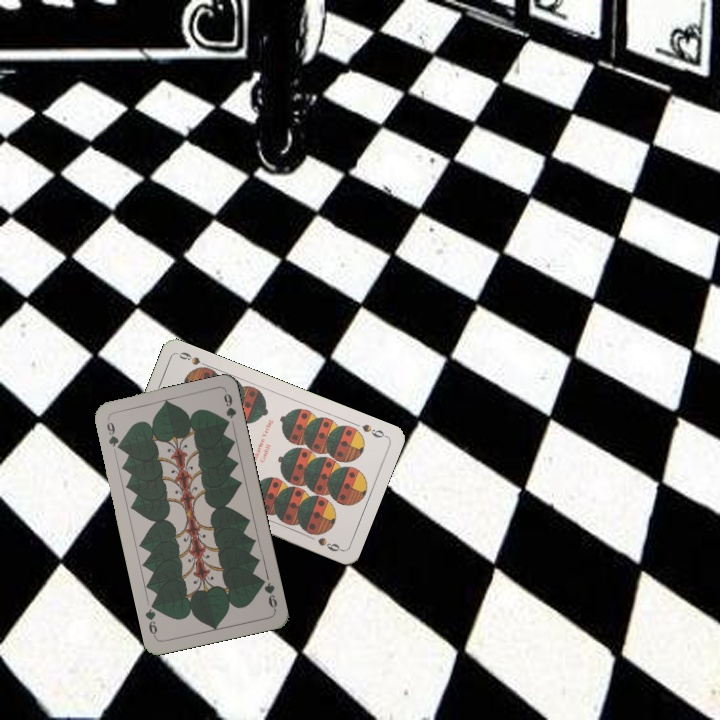G9: (256, 574, 280, 613), (102, 415, 124, 453)
S9: (358, 420, 390, 441)
